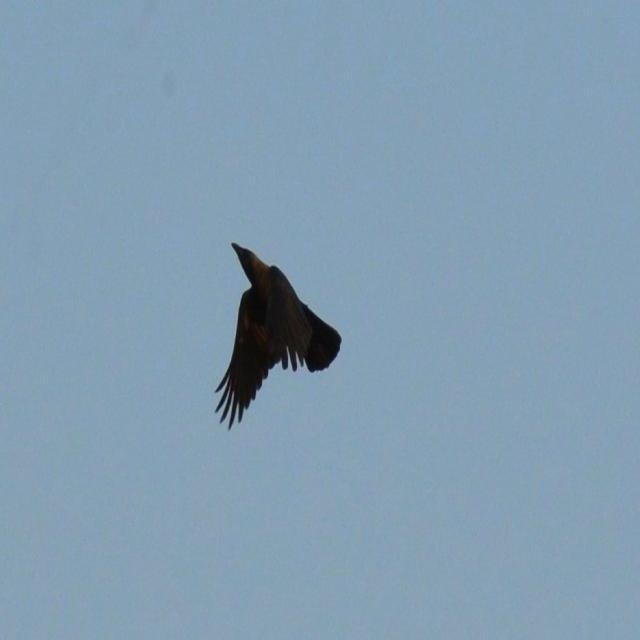bird: (210, 233, 344, 440)
